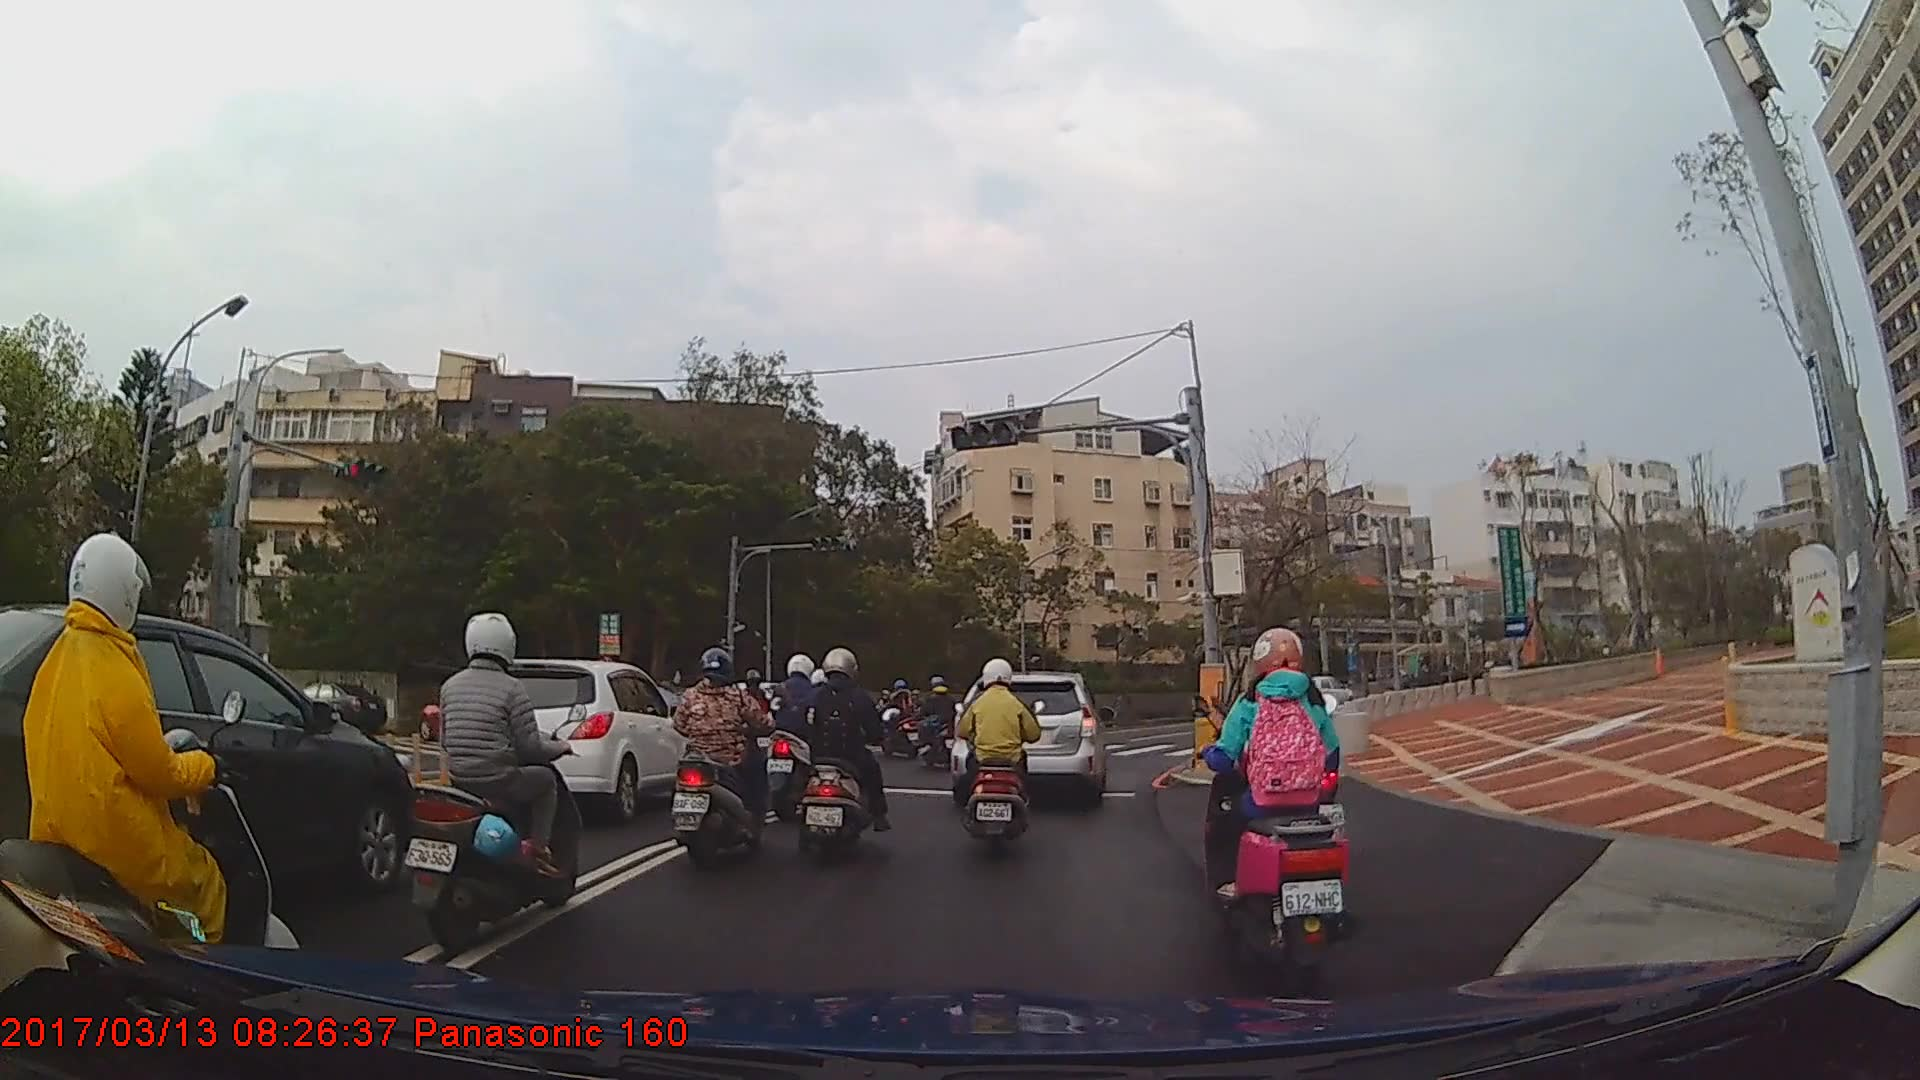rider: (3, 531, 305, 1022), (402, 611, 586, 954), (1202, 629, 1354, 959), (665, 642, 782, 872), (791, 641, 893, 862), (954, 654, 1046, 847), (763, 648, 833, 817), (906, 673, 969, 771), (869, 677, 924, 758)
vehicle: (0, 599, 418, 943), (456, 657, 698, 823), (951, 668, 1108, 804), (283, 678, 388, 733), (1302, 674, 1355, 707)
